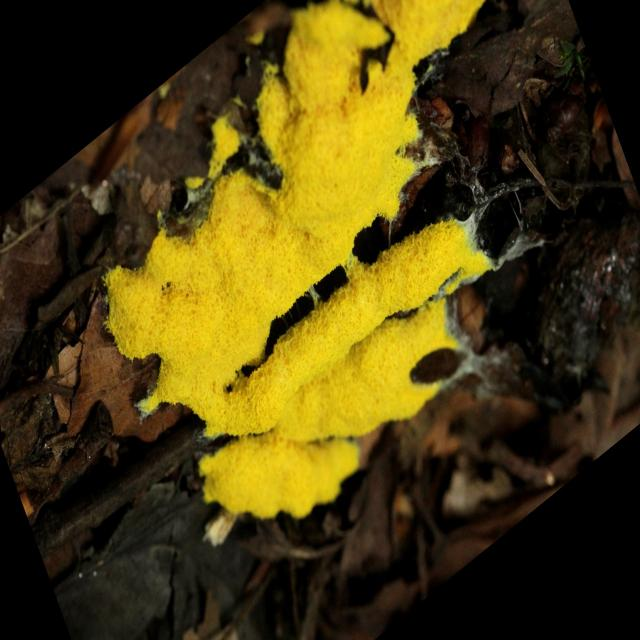Dog_vomit_slime_mold: (100, 1, 514, 543)
